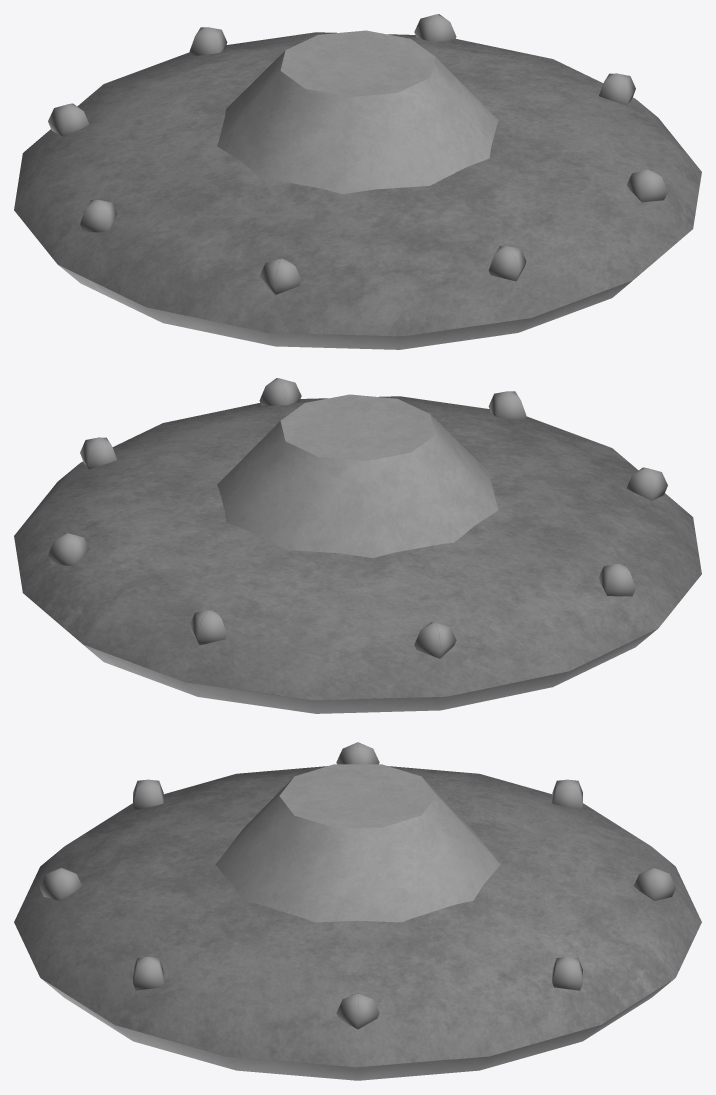
The model's file is ufo.obj.
3 views of the same model, one above another, from view 1: azimuth 30°, elevation 25°; view 2: azimuth 150°, elevation 25°; view 3: azimuth 270°, elevation 25° (orthographic).
Visible parts, largest first — view 1: Sphere_Sphere.001, Cylinder, Sphere.002; view 2: Sphere_Sphere.001, Cylinder, Sphere.002; view 3: Sphere_Sphere.001, Cylinder, Sphere.002.
Part boxes in pixels (left/top/right/bottom): Sphere_Sphere.001: left=14, top=32, right=701, bottom=349; Cylinder: left=217, top=30, right=498, bottom=193; Sphere.002: left=48, top=14, right=667, bottom=294; Sphere_Sphere.001: left=14, top=396, right=701, bottom=713; Cylinder: left=217, top=394, right=498, bottom=557; Sphere.002: left=48, top=378, right=667, bottom=658; Sphere_Sphere.001: left=14, top=766, right=701, bottom=1080; Cylinder: left=215, top=764, right=500, bottom=922; Sphere.002: left=40, top=742, right=675, bottom=1029.
Size of the model in its own units: 25.52 by 8.6 by 25.52.
